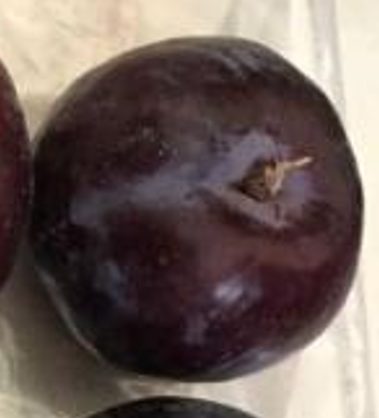plum_B: (28, 36, 363, 384)
